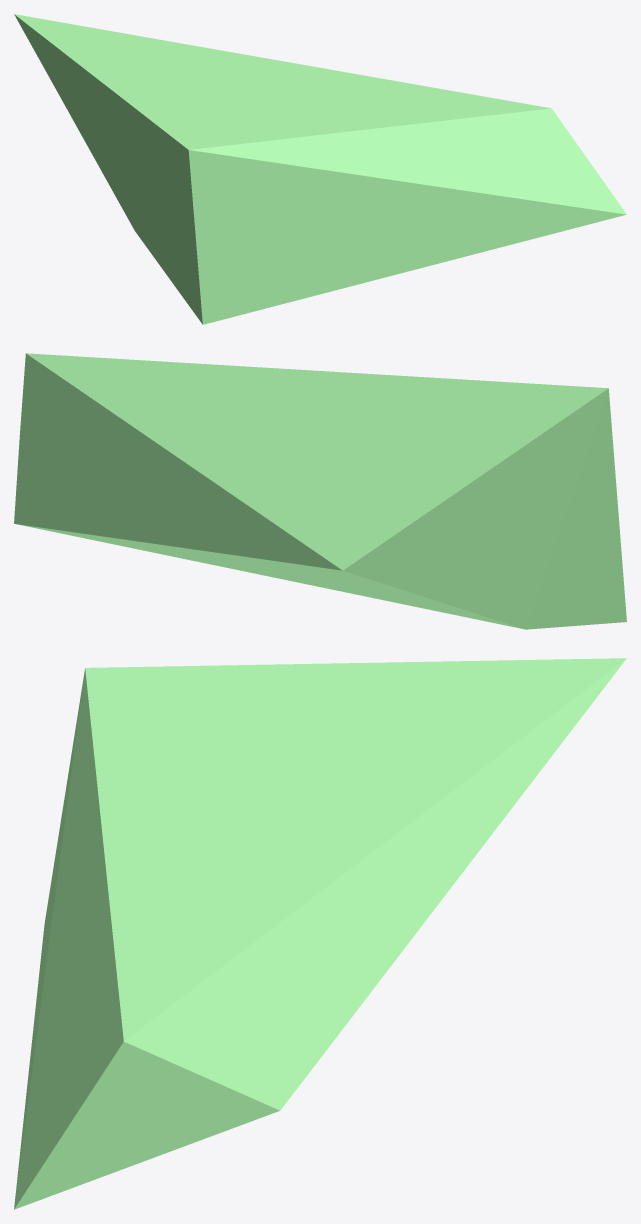
Rendered from linkhou_LR4_R560_link7_respondable_coll_33.dae.
The picture shows the model from 3 angles, top to bottom: view 1: azimuth 30°, elevation 25°; view 2: azimuth 150°, elevation 25°; view 3: azimuth 270°, elevation 25°; orthographic projection. The views are drawn at different scales.
Parts seen in each view (by area): view 1: Node_00000209DB3A90B0; view 2: Node_00000209DB3A90B0; view 3: Node_00000209DB3A90B0.
Part boxes in pixels (bbox=[...]): Node_00000209DB3A90B0: bbox=[14, 14, 626, 324]; Node_00000209DB3A90B0: bbox=[14, 353, 626, 629]; Node_00000209DB3A90B0: bbox=[14, 658, 626, 1209].
Size of the model in its own units: 0.00998 by 0.00401 by 0.00828.
